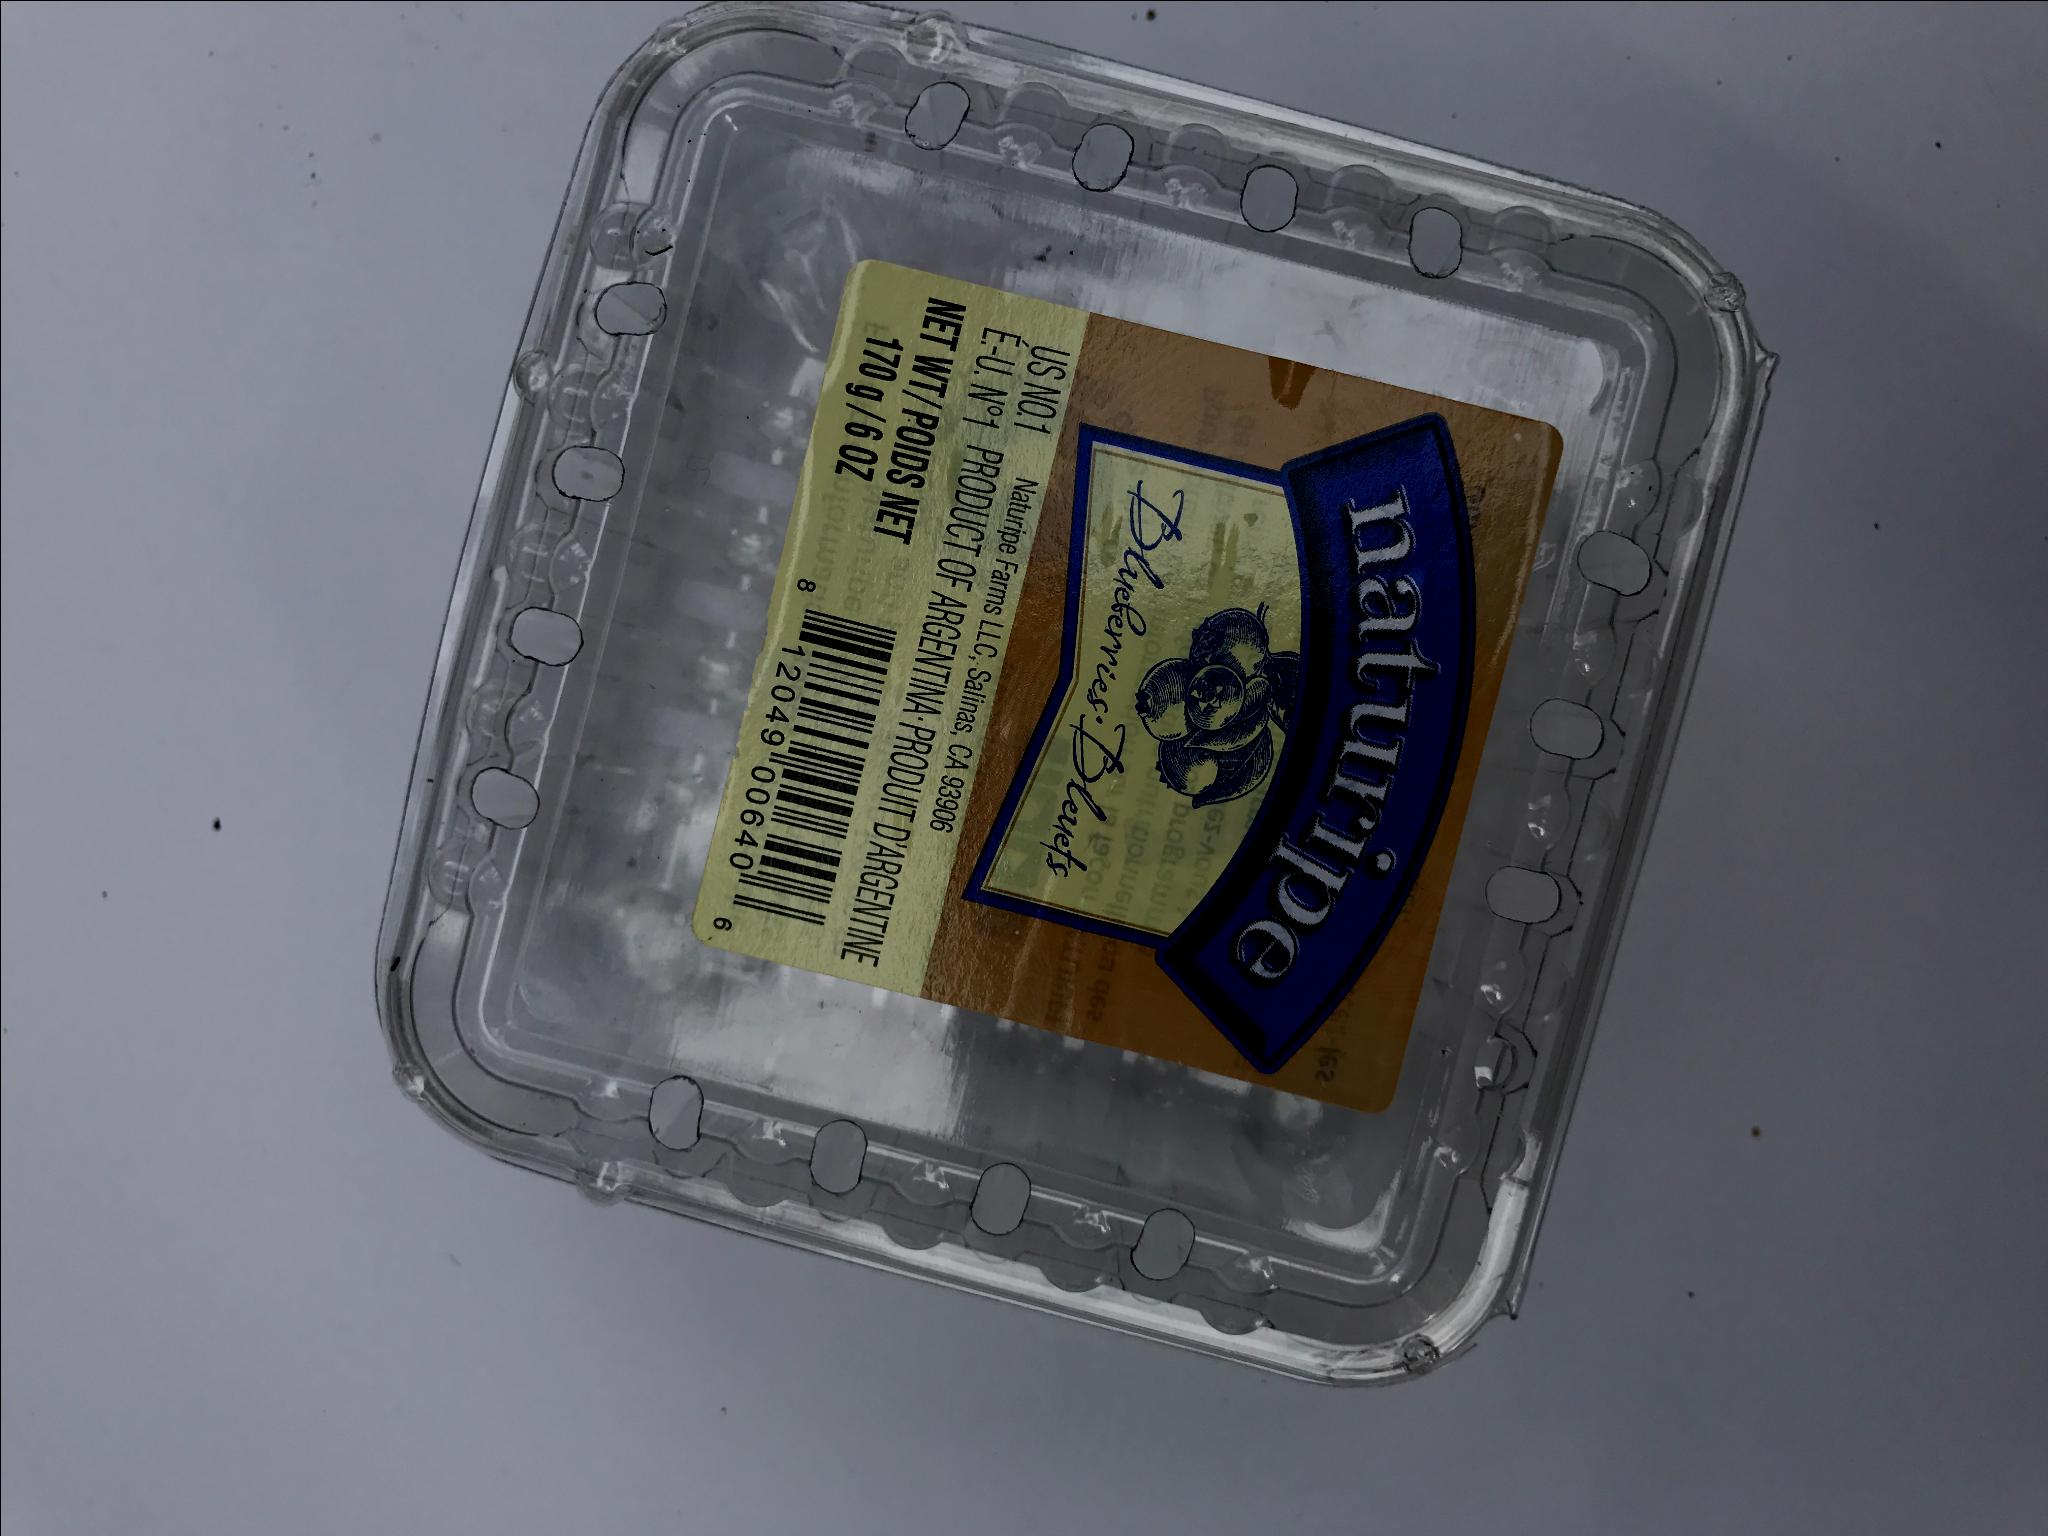Plastic: (358, 2, 1793, 1421)
